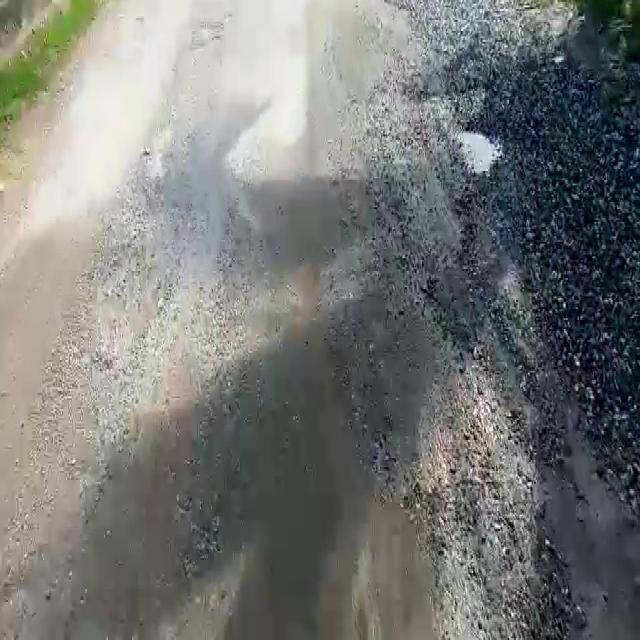Pothole: (460, 117, 504, 179)
